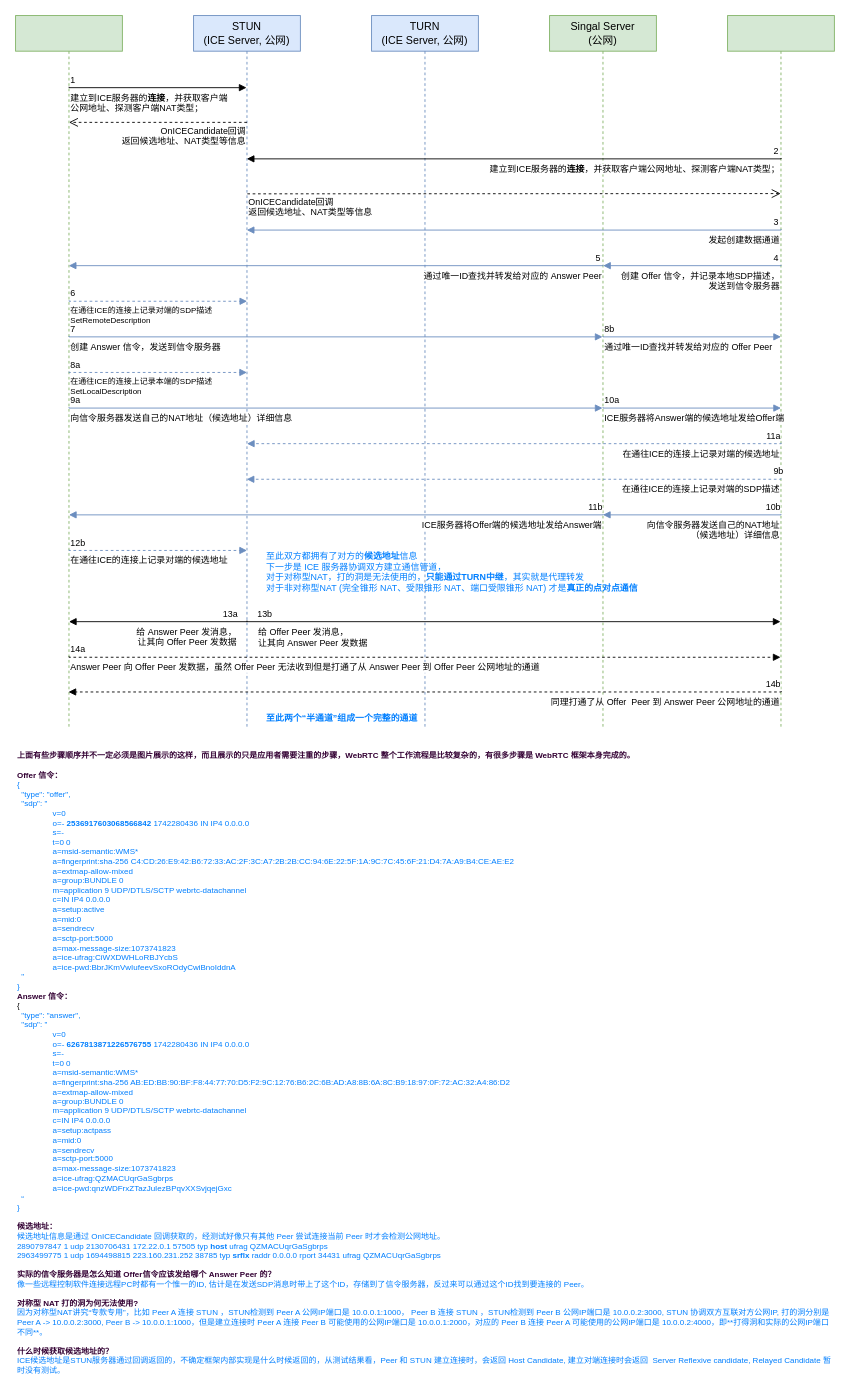
This 850x1392 diagram has some shape labels left out. The centre of each missing label's shape, as x and y in pixels:
"Peer (Answer)" belongs at (x=68, y=371).
"Peer (Offer)" belongs at (x=780, y=371).
